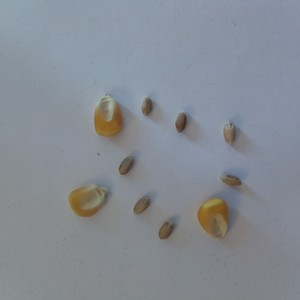maiz: (66, 182, 114, 220), (194, 194, 232, 242), (90, 90, 126, 138)
trigo: (220, 118, 238, 146), (218, 171, 245, 188), (156, 217, 174, 242), (117, 155, 135, 176), (132, 195, 150, 216), (173, 110, 188, 133), (139, 95, 154, 117)
